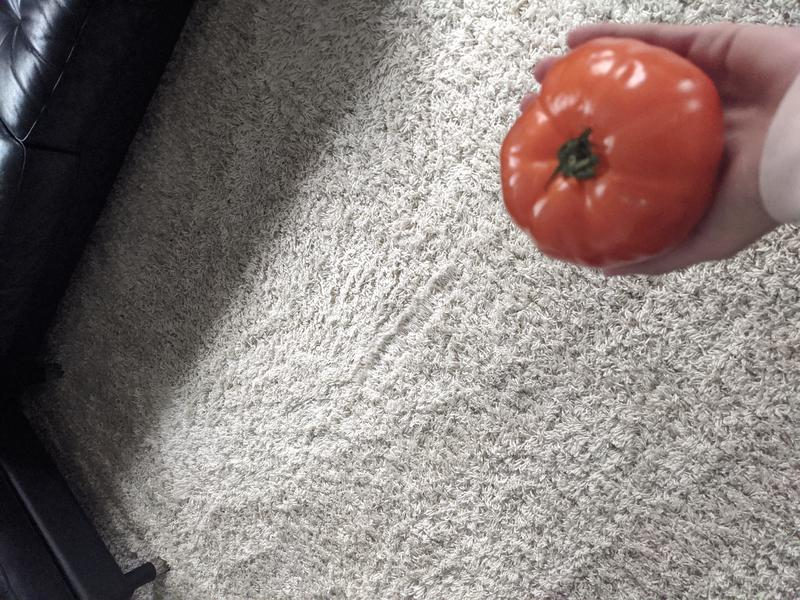tomato: (498, 37, 730, 269)
